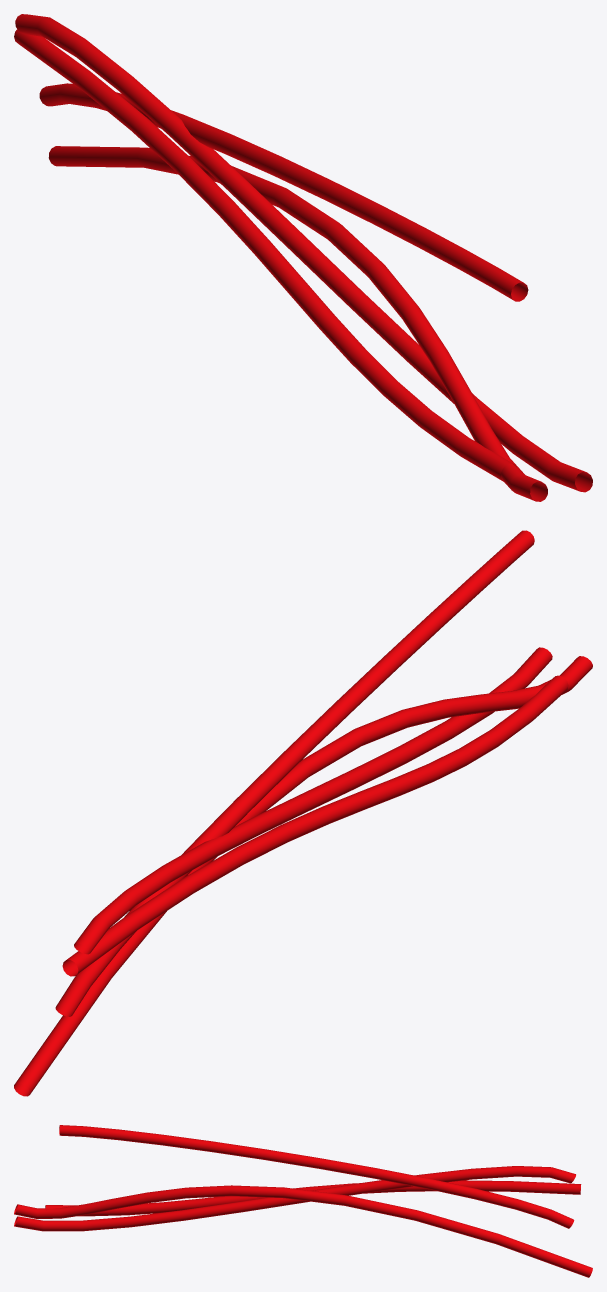
File: cables.fbx
The picture shows the model from 3 angles, top to bottom: view 1: azimuth 30°, elevation 25°; view 2: azimuth 150°, elevation 25°; view 3: azimuth 270°, elevation 25°; orthographic projection. The views are drawn at different scales.
Parts seen in each view (by area): view 1: Cables; view 2: Cables; view 3: Cables.
Part boxes in pixels (x1=…): Cables: x1=14, y1=14, x2=592, y2=501; Cables: x1=14, y1=530, x2=592, y2=1096; Cables: x1=14, y1=1125, x2=592, y2=1277.
Bounding box in the file's own units: 0.7495 × 2 × 7.52.
